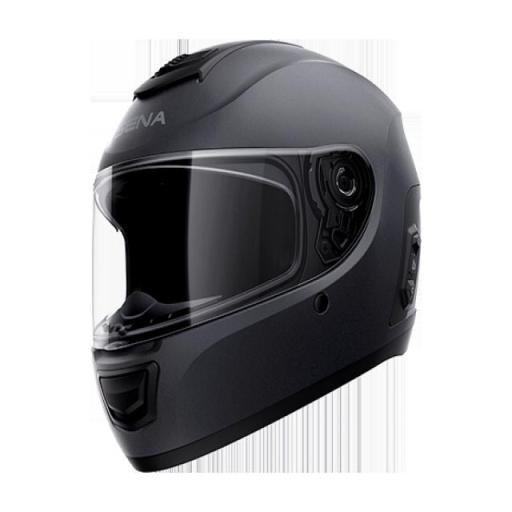Helmet: (94, 42, 419, 471)
